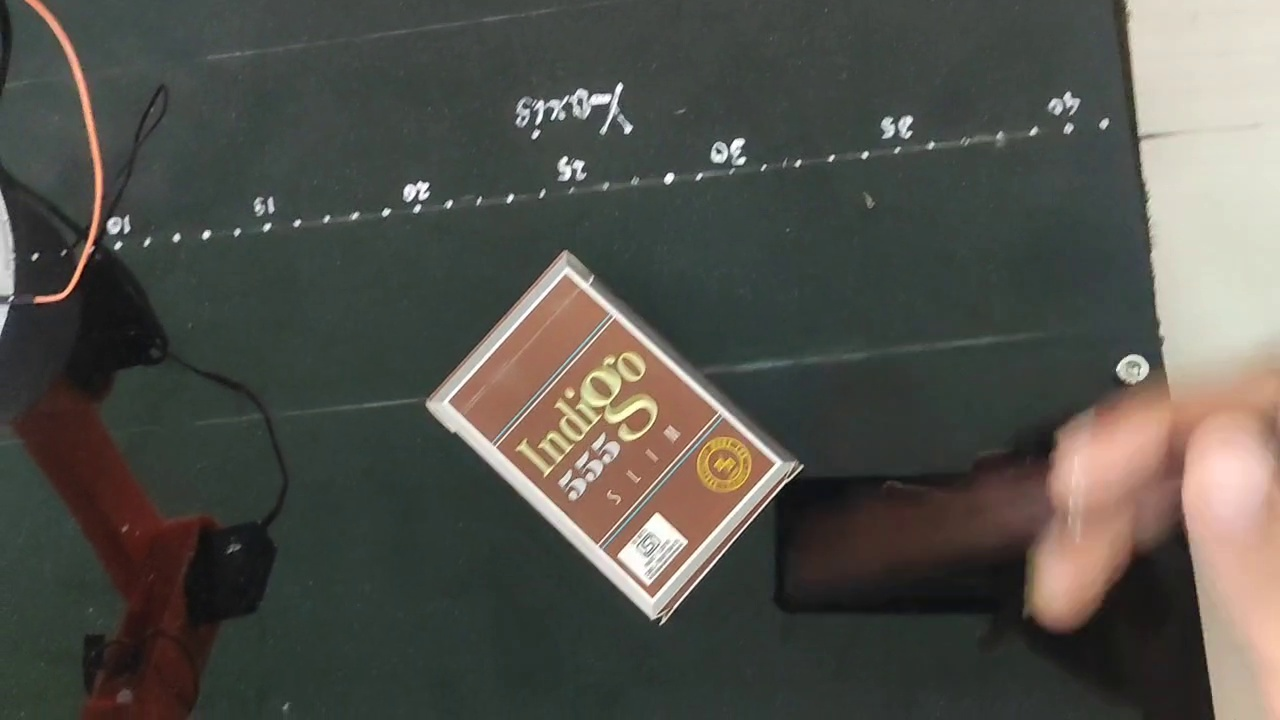BEX: (442, 270, 773, 600)
